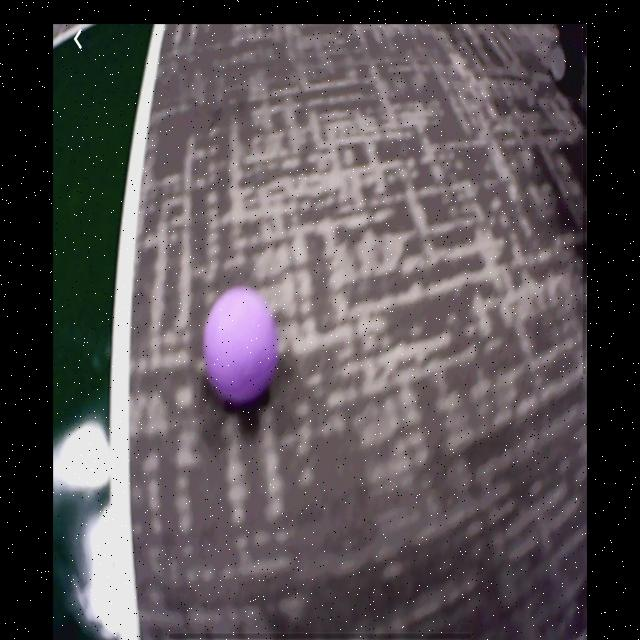ball: (203, 285, 281, 409)
